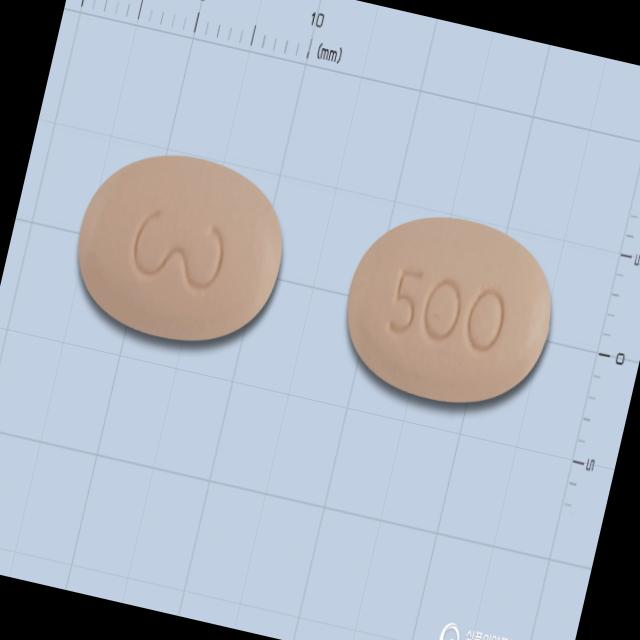Withus Levofloxacin Tab: (60, 134, 301, 362), (329, 195, 570, 422)
